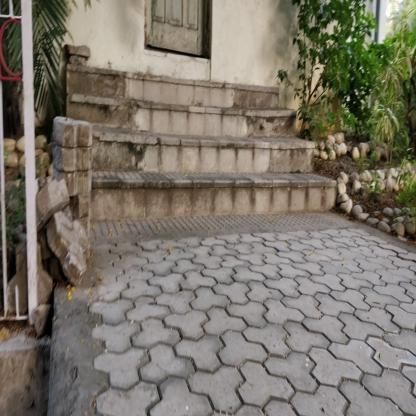stairs: (126, 81, 268, 242)
